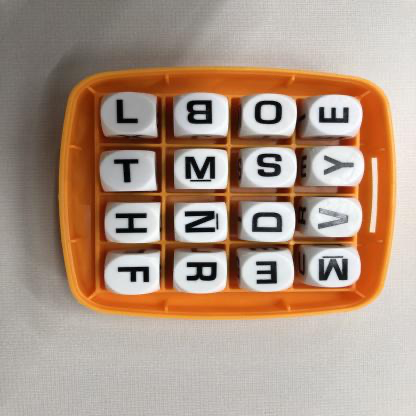b: (173, 95, 230, 137)
d: (242, 202, 295, 242)
e: (240, 252, 294, 293), (310, 95, 363, 134)
f: (104, 254, 161, 296)
h: (105, 203, 161, 243)
l: (103, 92, 158, 133)
m: (308, 248, 362, 288), (173, 151, 229, 189)
n: (175, 203, 227, 242)
o: (242, 94, 298, 135)
r: (174, 252, 227, 294)
s: (244, 148, 297, 188)
t: (100, 151, 156, 192)
v: (311, 198, 363, 238)
y: (312, 148, 365, 187)
